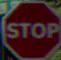Stop: (3, 9, 57, 46)
